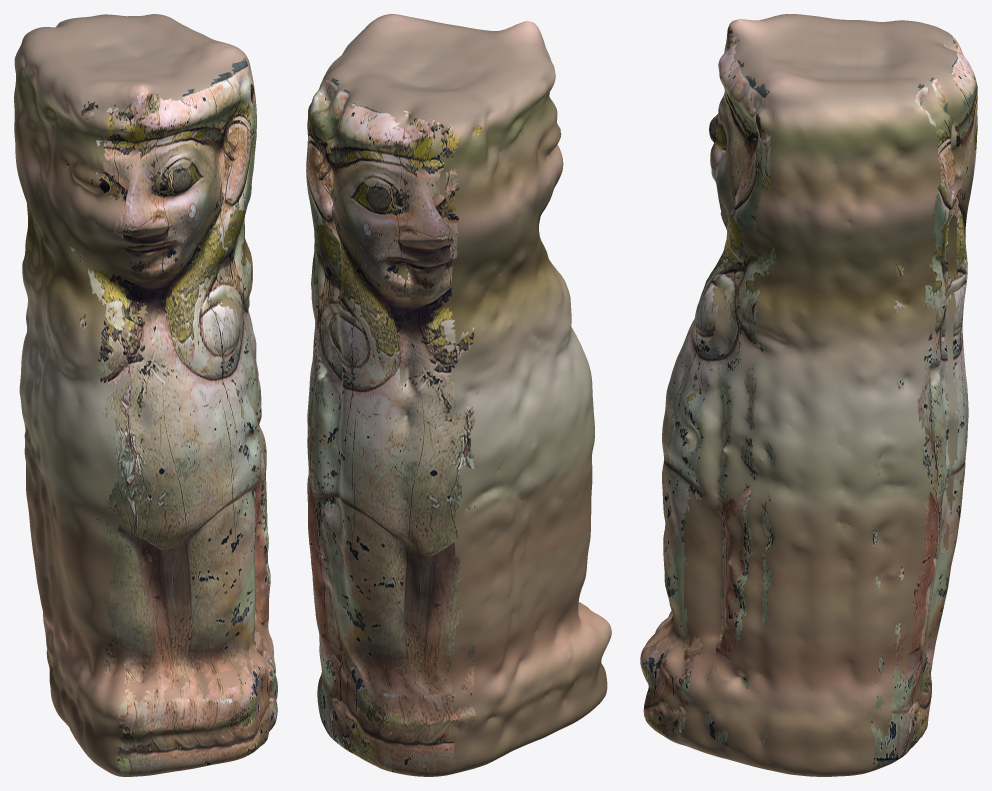
The model's file is ane-14.glb.
The picture shows the model from 3 angles, left to right: view 1: azimuth 30°, elevation 25°; view 2: azimuth 150°, elevation 25°; view 3: azimuth 270°, elevation 25°; orthographic projection. The views are drawn at different scales.
Visible parts, largest first — view 1: ane-14; view 2: ane-14; view 3: ane-14.
Part boxes in pixels (bbox=[...]): ane-14: bbox=[14, 14, 277, 776]; ane-14: bbox=[306, 14, 611, 776]; ane-14: bbox=[640, 14, 977, 776].
Bounding box in the file's own units: 0.3329 × 0.997 × 0.4377.
Materials: 4 (4 with a texture image).
